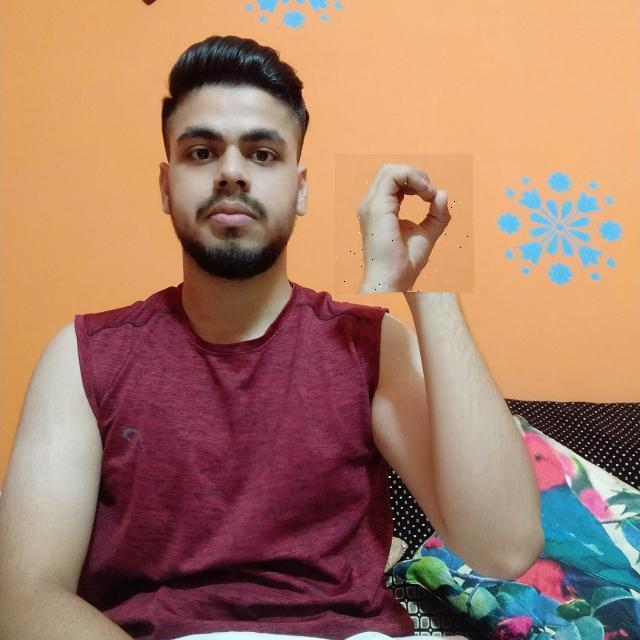O: (335, 154, 474, 294)
